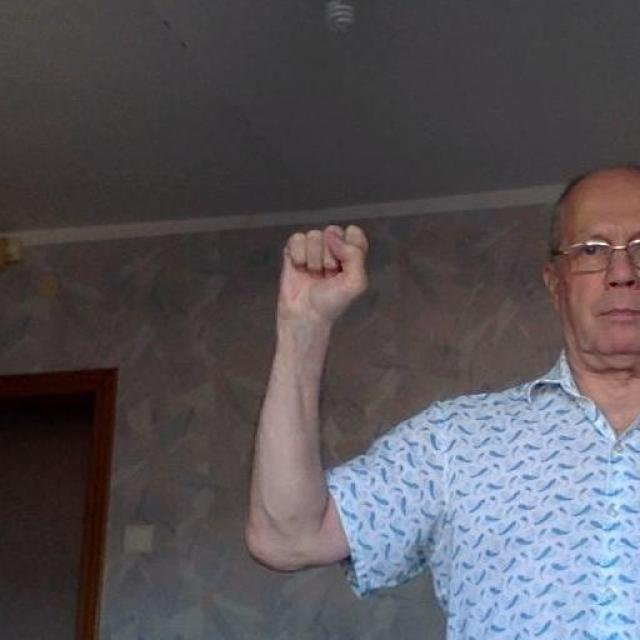hand: (275, 221, 369, 325)
